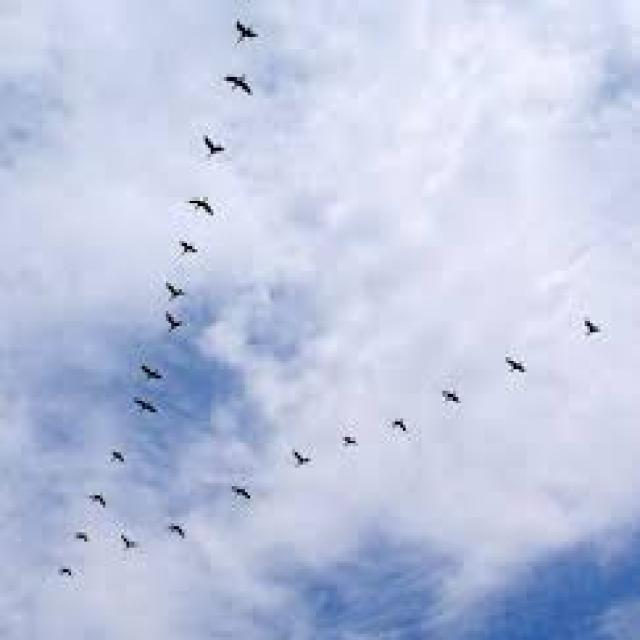bird: (188, 120, 233, 172), (218, 63, 268, 109), (224, 9, 269, 58), (180, 184, 230, 224), (128, 391, 172, 434), (568, 296, 608, 342), (220, 476, 262, 518), (284, 434, 322, 480), (332, 422, 369, 468), (153, 274, 195, 314), (424, 374, 466, 414), (126, 357, 174, 391), (164, 306, 207, 343), (102, 437, 138, 480), (163, 230, 208, 264), (76, 478, 114, 518), (494, 348, 531, 388), (166, 517, 200, 560), (112, 518, 144, 562), (62, 518, 101, 550), (384, 410, 416, 444), (46, 562, 83, 590)
